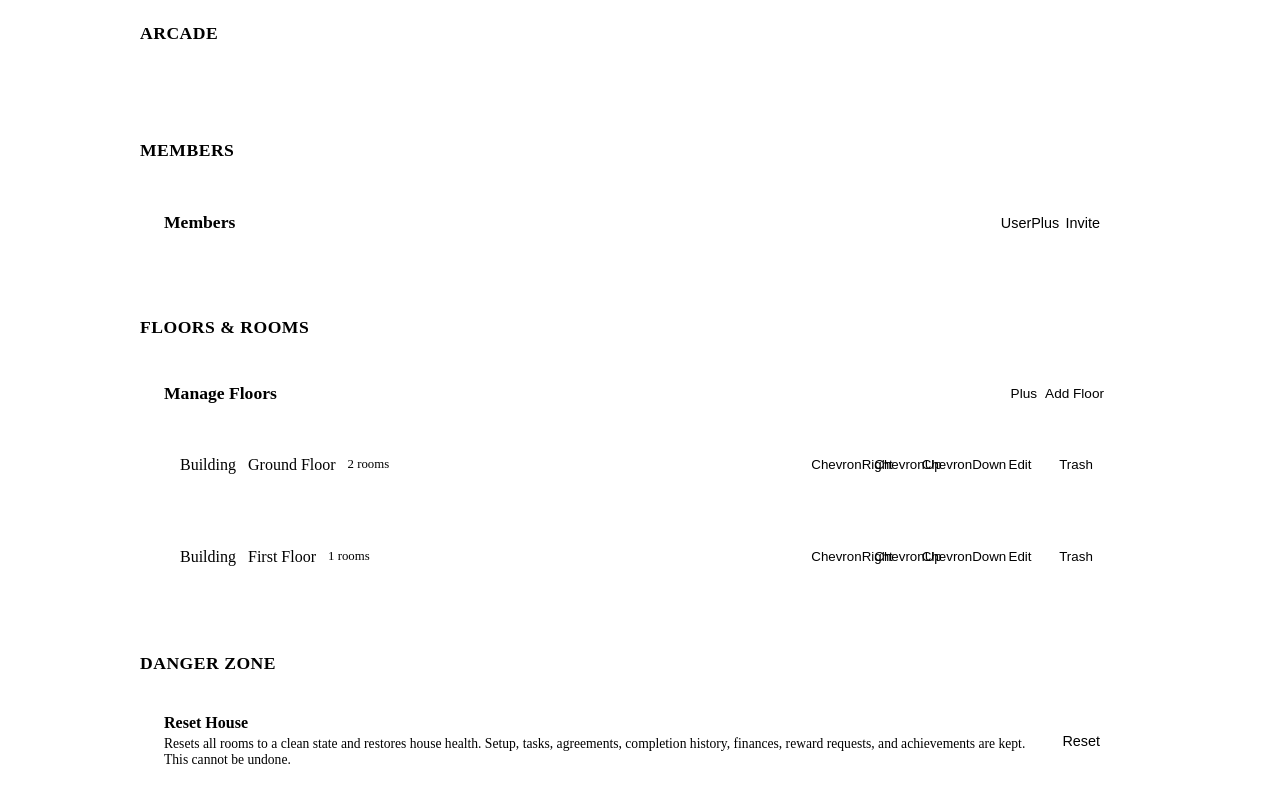
it: Settings.vue › expands a floor to reveal its rooms and the inline add form
The image size is (1280, 800).
(page scrolled)
Click the button with test id "expand-floor-1": [852, 465] box [828,441,876,489]
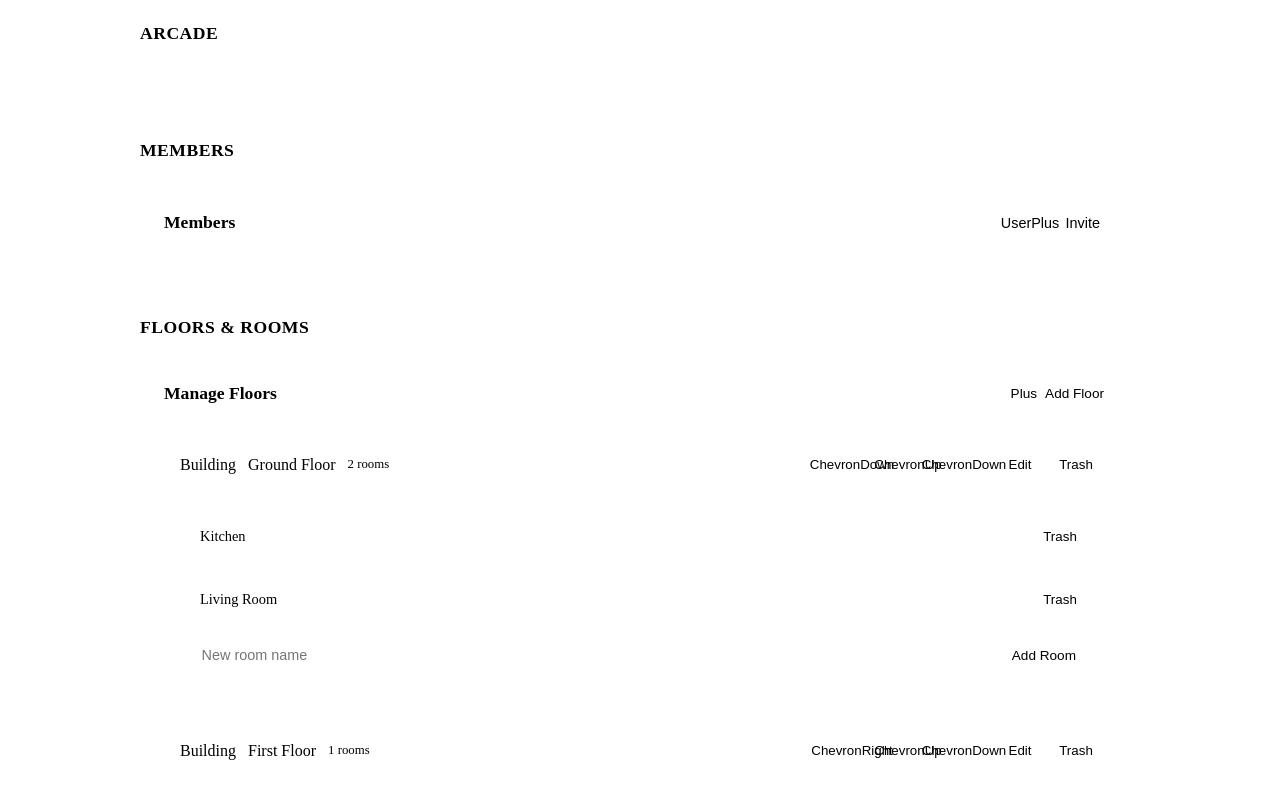
Check: the element with test id "floor-rooms-1" is shown, box [180,501,1100,683]
Check: the element with test id "floor-rooms-1" shows "Kitchen", box [200,528,246,544]
Check: the button with test id "add-room-to-floor-button" is shown, box [1000,640,1088,671]
